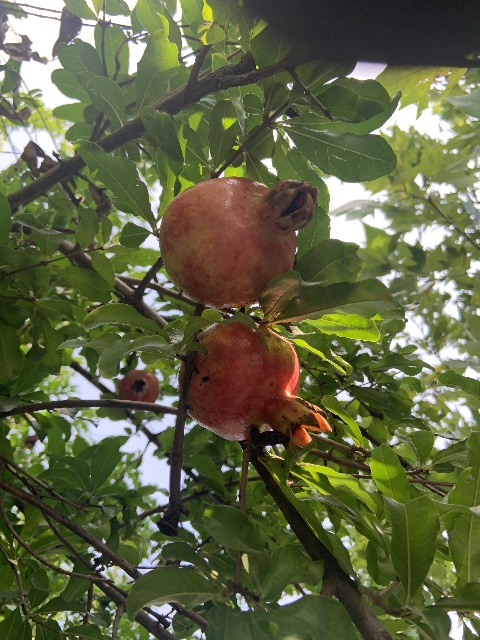ripe: (159, 175, 321, 309), (177, 319, 332, 449), (118, 370, 160, 403)
